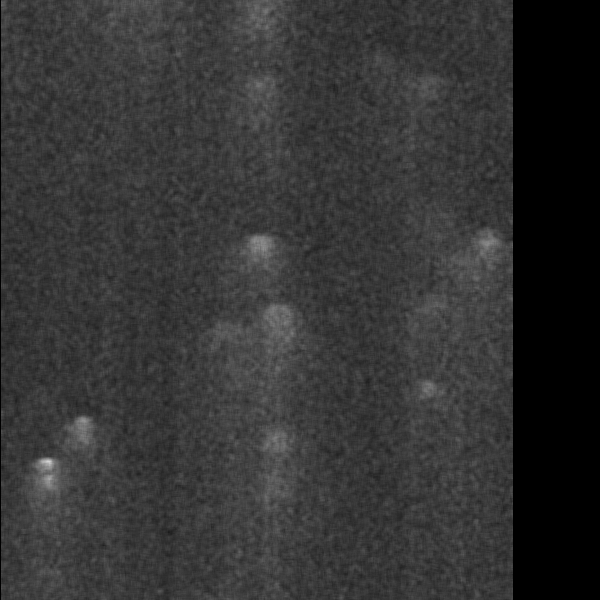spark: (224, 226, 294, 297), (253, 423, 299, 510), (389, 288, 462, 326), (471, 221, 508, 292), (68, 411, 95, 503), (26, 452, 63, 507), (408, 68, 434, 130), (400, 375, 455, 402), (224, 74, 270, 105)
